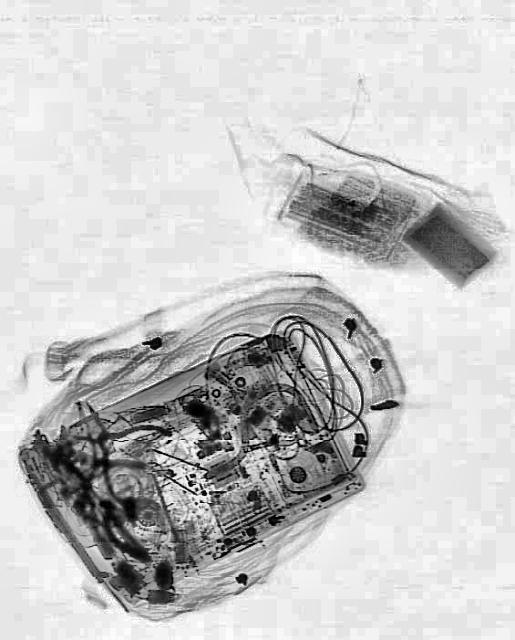Pliers: (54, 376, 174, 512)
